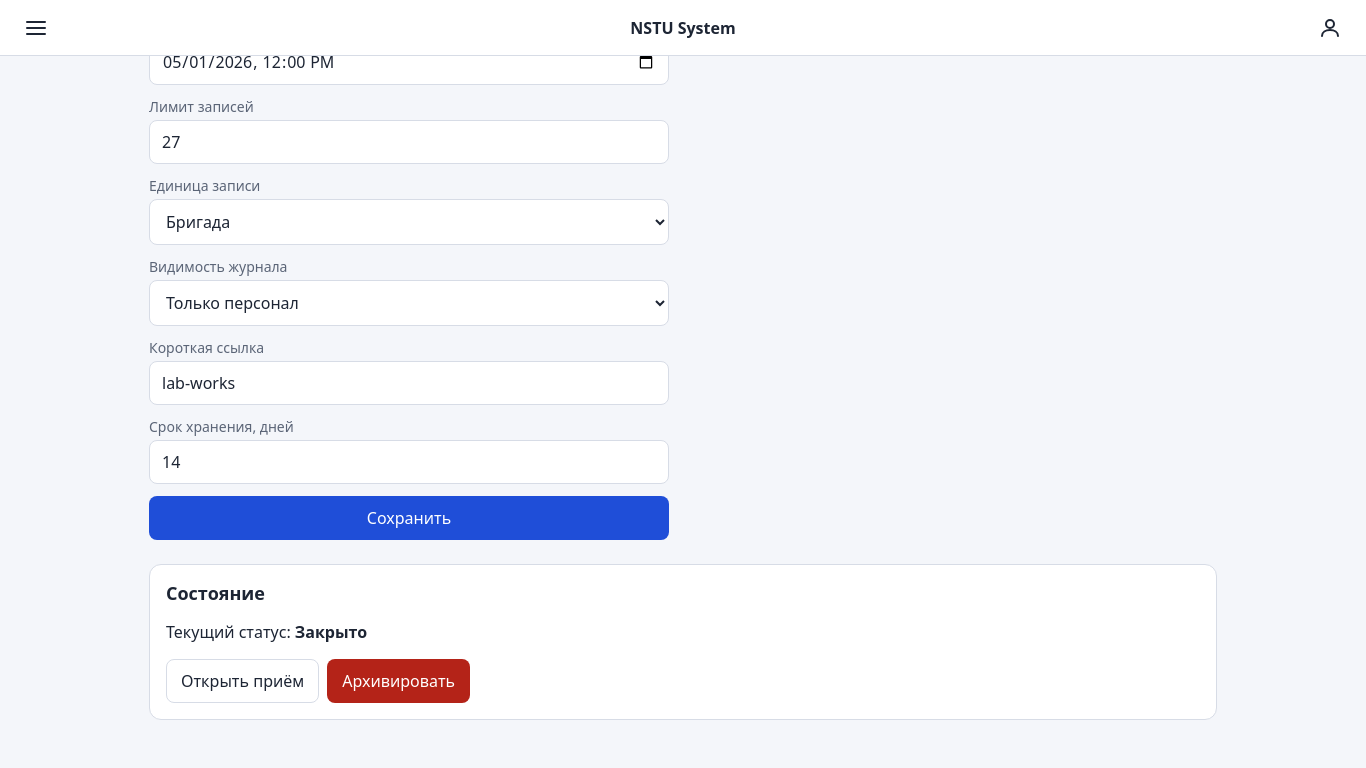
Test: настройки события /e/:slug/settings › архивация доступна администратору, запрашивает подтверждение и уводит в историю
The image size is (1366, 768).
(page scrolled)
Click the button "Архивировать". click: (399, 681)
box: x1=327 y1=659 x2=470 y2=703
(page scrolled)
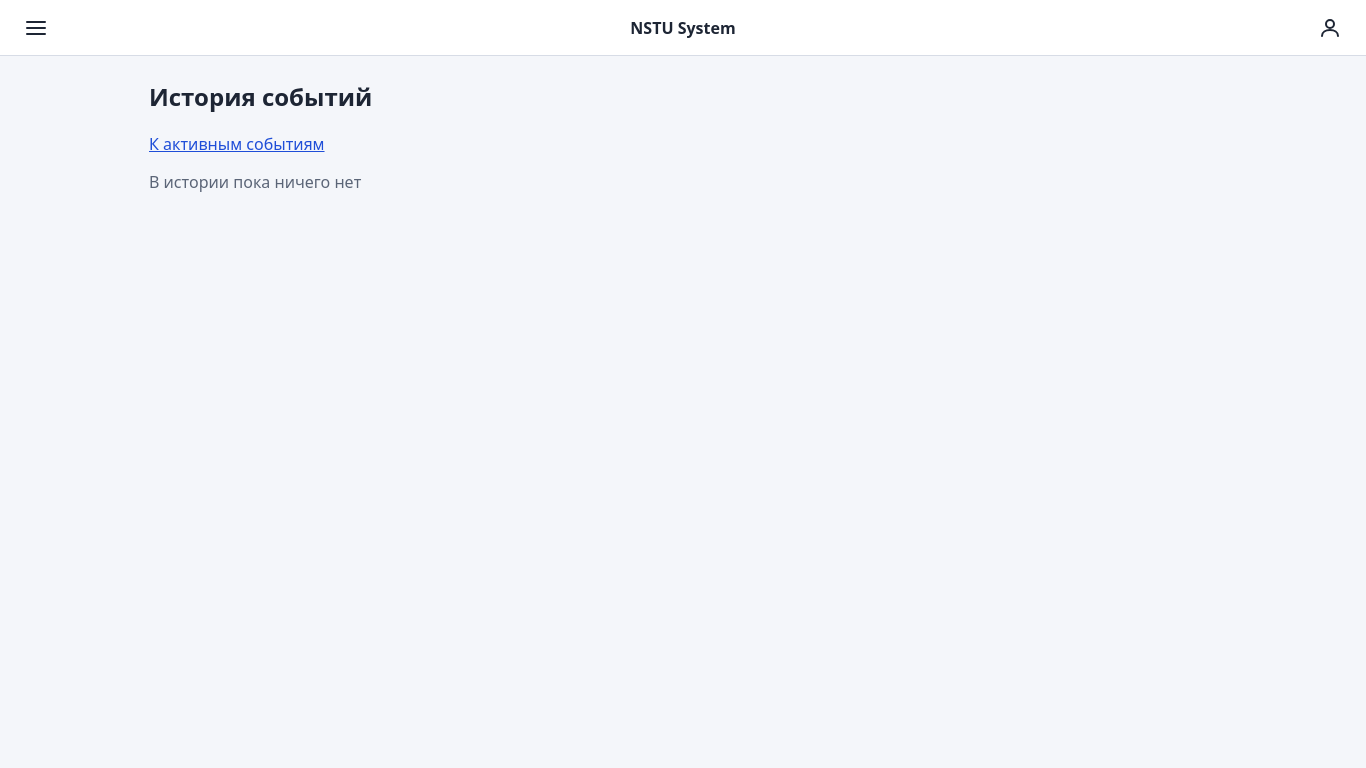
Check: the heading "История событий" is shown, box x1=149 y1=80 x2=372 y2=113
